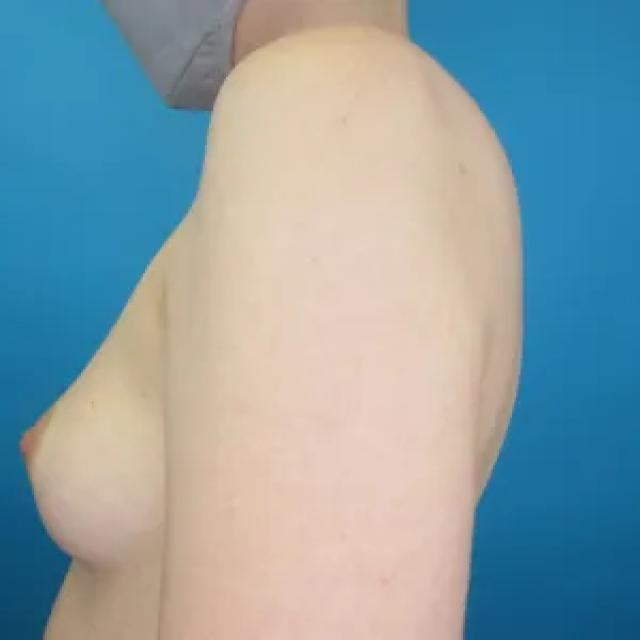Seno ileso: (10, 184, 210, 592)
